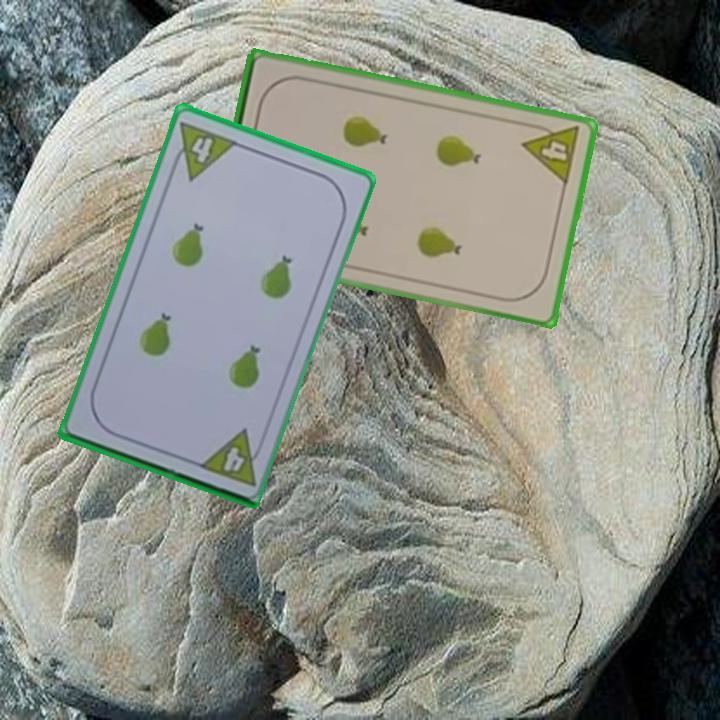4p: (165, 118, 240, 183), (193, 426, 268, 488), (519, 118, 584, 188)
